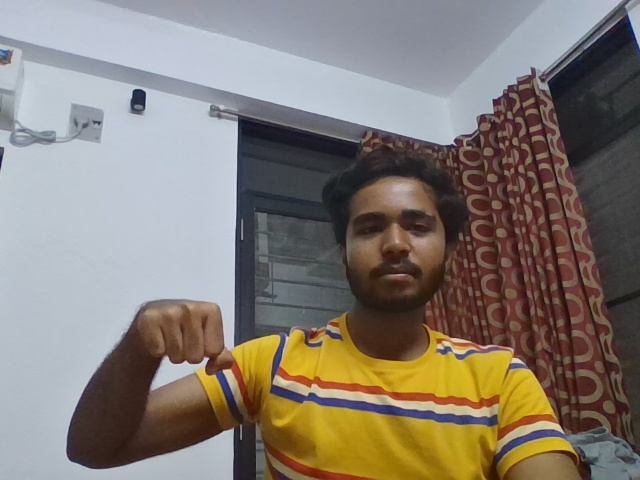Yes: (110, 275, 250, 402)
